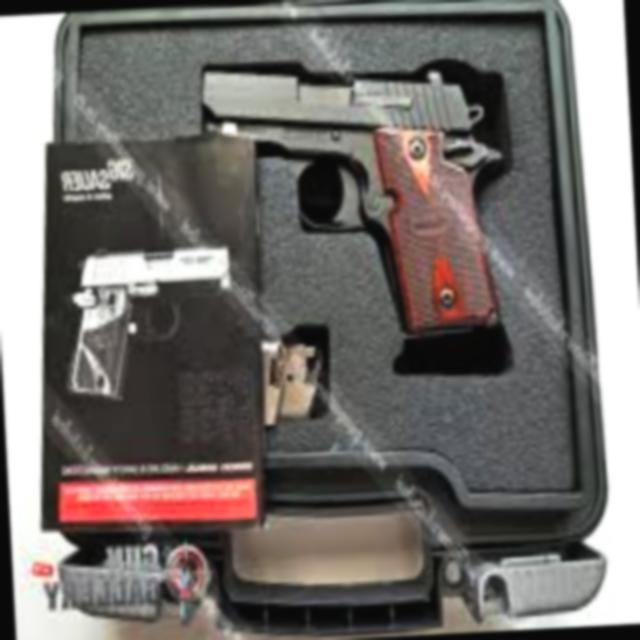semi automatic: (182, 27, 526, 410)
